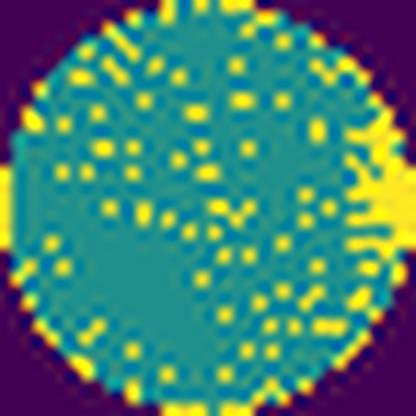Edge-Loc: (336, 93, 416, 294)
